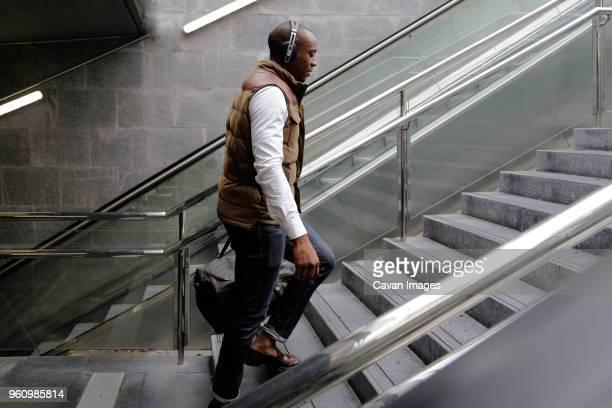without_mask: (245, 11, 344, 90)
